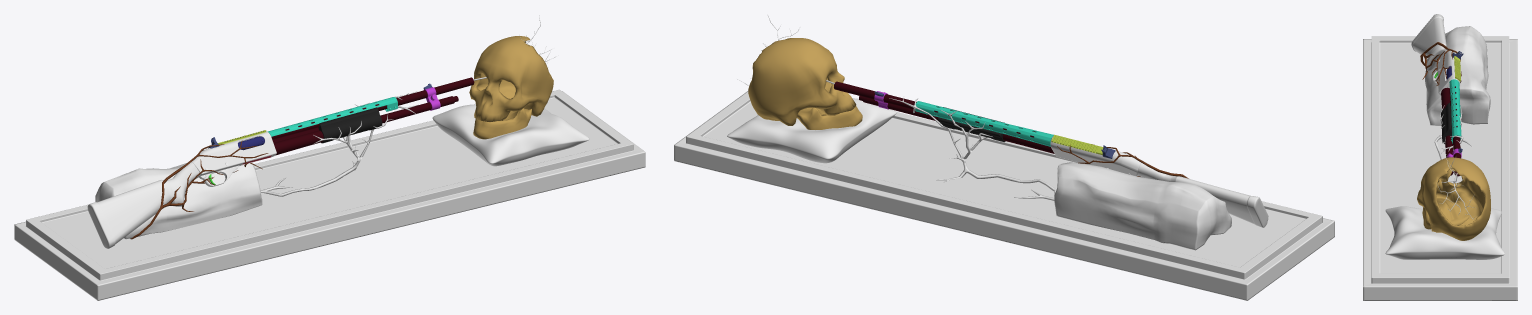
Rendered from uploads_files_871923_DecorativeWeapon 1.fbx.
3 renders of one model, left to right at view 1: azimuth 30°, elevation 25°; view 2: azimuth 150°, elevation 25°; view 3: azimuth 270°, elevation 25°, orthographic. The views are drawn at different scales.
Parts seen in each view (by area): view 1: DecorativeWeapon.001; view 2: DecorativeWeapon.001; view 3: DecorativeWeapon.001.
Part boxes in pixels (x1,y1,x2,y2): DecorativeWeapon.001: (14, 15, 645, 300); DecorativeWeapon.001: (674, 16, 1334, 300); DecorativeWeapon.001: (1363, 14, 1517, 300).
Size of the model in its own units: 161 by 36.64 by 42.65.
